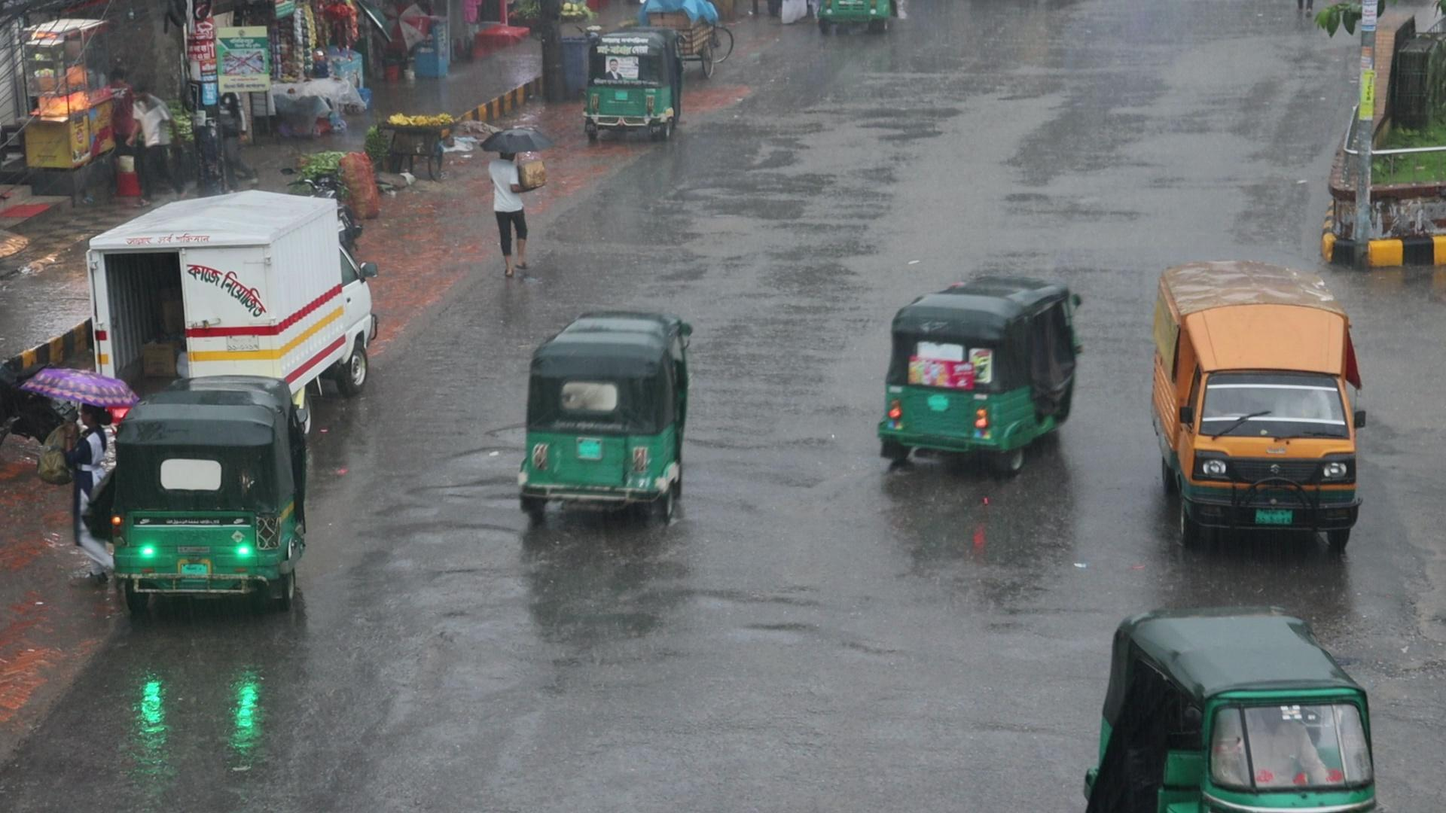Truck: (1141, 251, 1369, 553)
